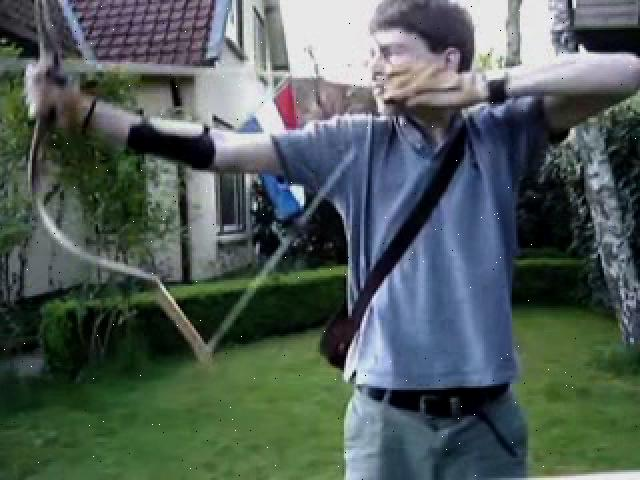P: (1, 4, 635, 480)
